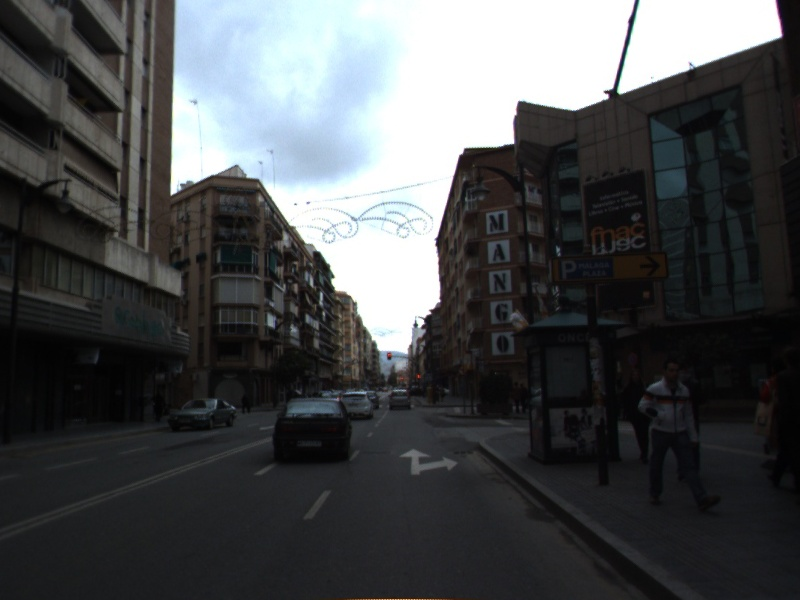STRAIGHT_RIGHT: (397, 447, 460, 476)
